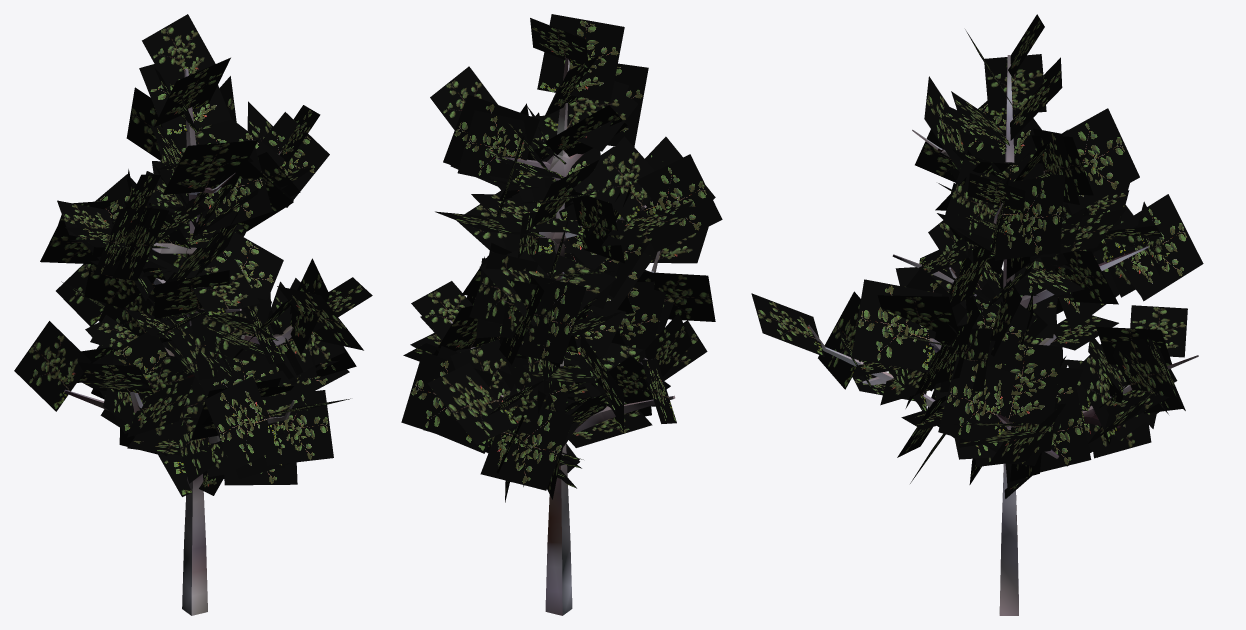
Rendered from Tree 1.fbx.
The picture shows the model from 3 angles, left to right: view 1: azimuth 30°, elevation 25°; view 2: azimuth 150°, elevation 25°; view 3: azimuth 270°, elevation 25°; orthographic projection. The views are drawn at different scales.
Visible parts, largest first — view 1: Tree; view 2: Tree; view 3: Tree.
Part boxes in pixels (x1,y1,x2,y2): Tree: [14, 14, 372, 615]; Tree: [401, 14, 722, 615]; Tree: [751, 14, 1203, 615].
Size of the model in its own units: 1717 by 3388 by 2500.
